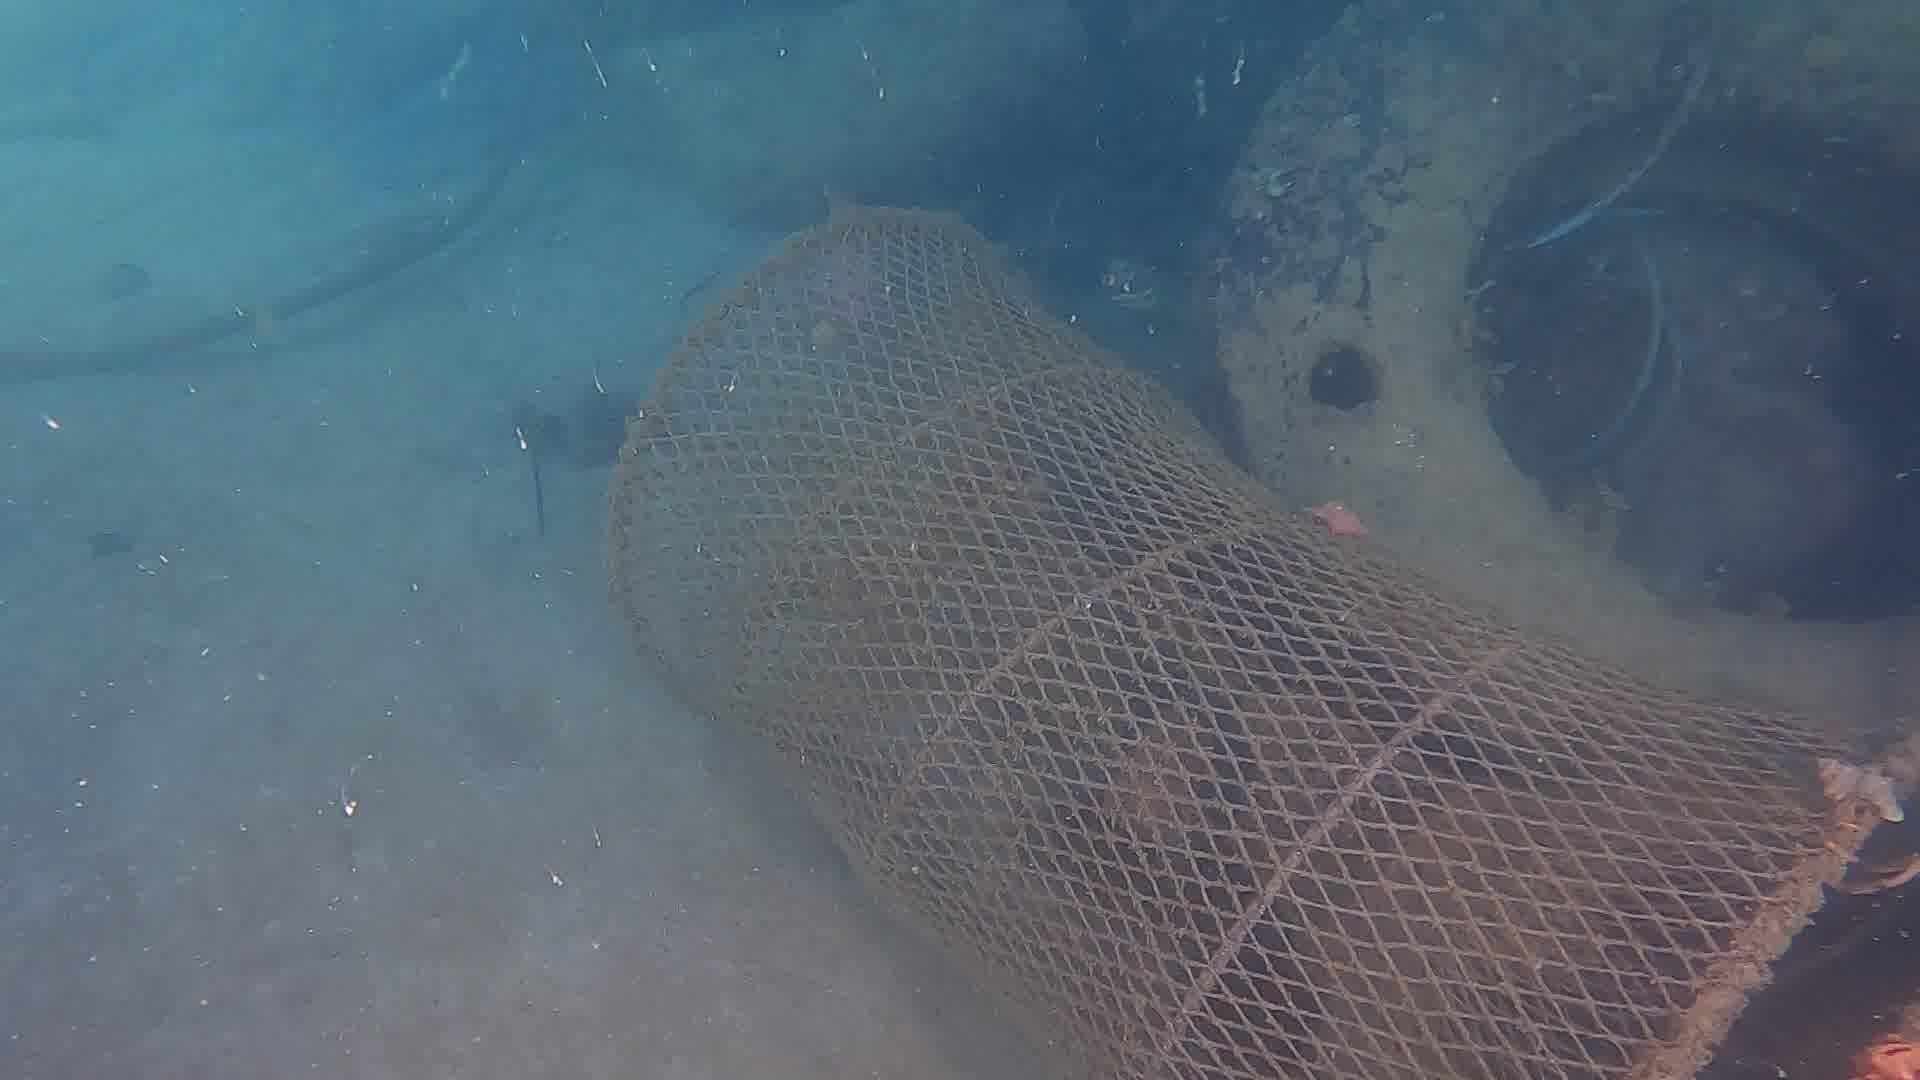spring fish trap: (596, 199, 1920, 1080)
tire: (1204, 0, 1920, 764)
